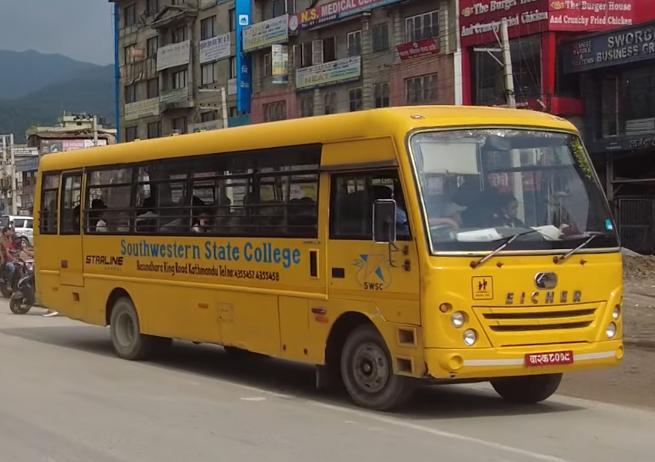school_bus: (30, 101, 625, 418)
